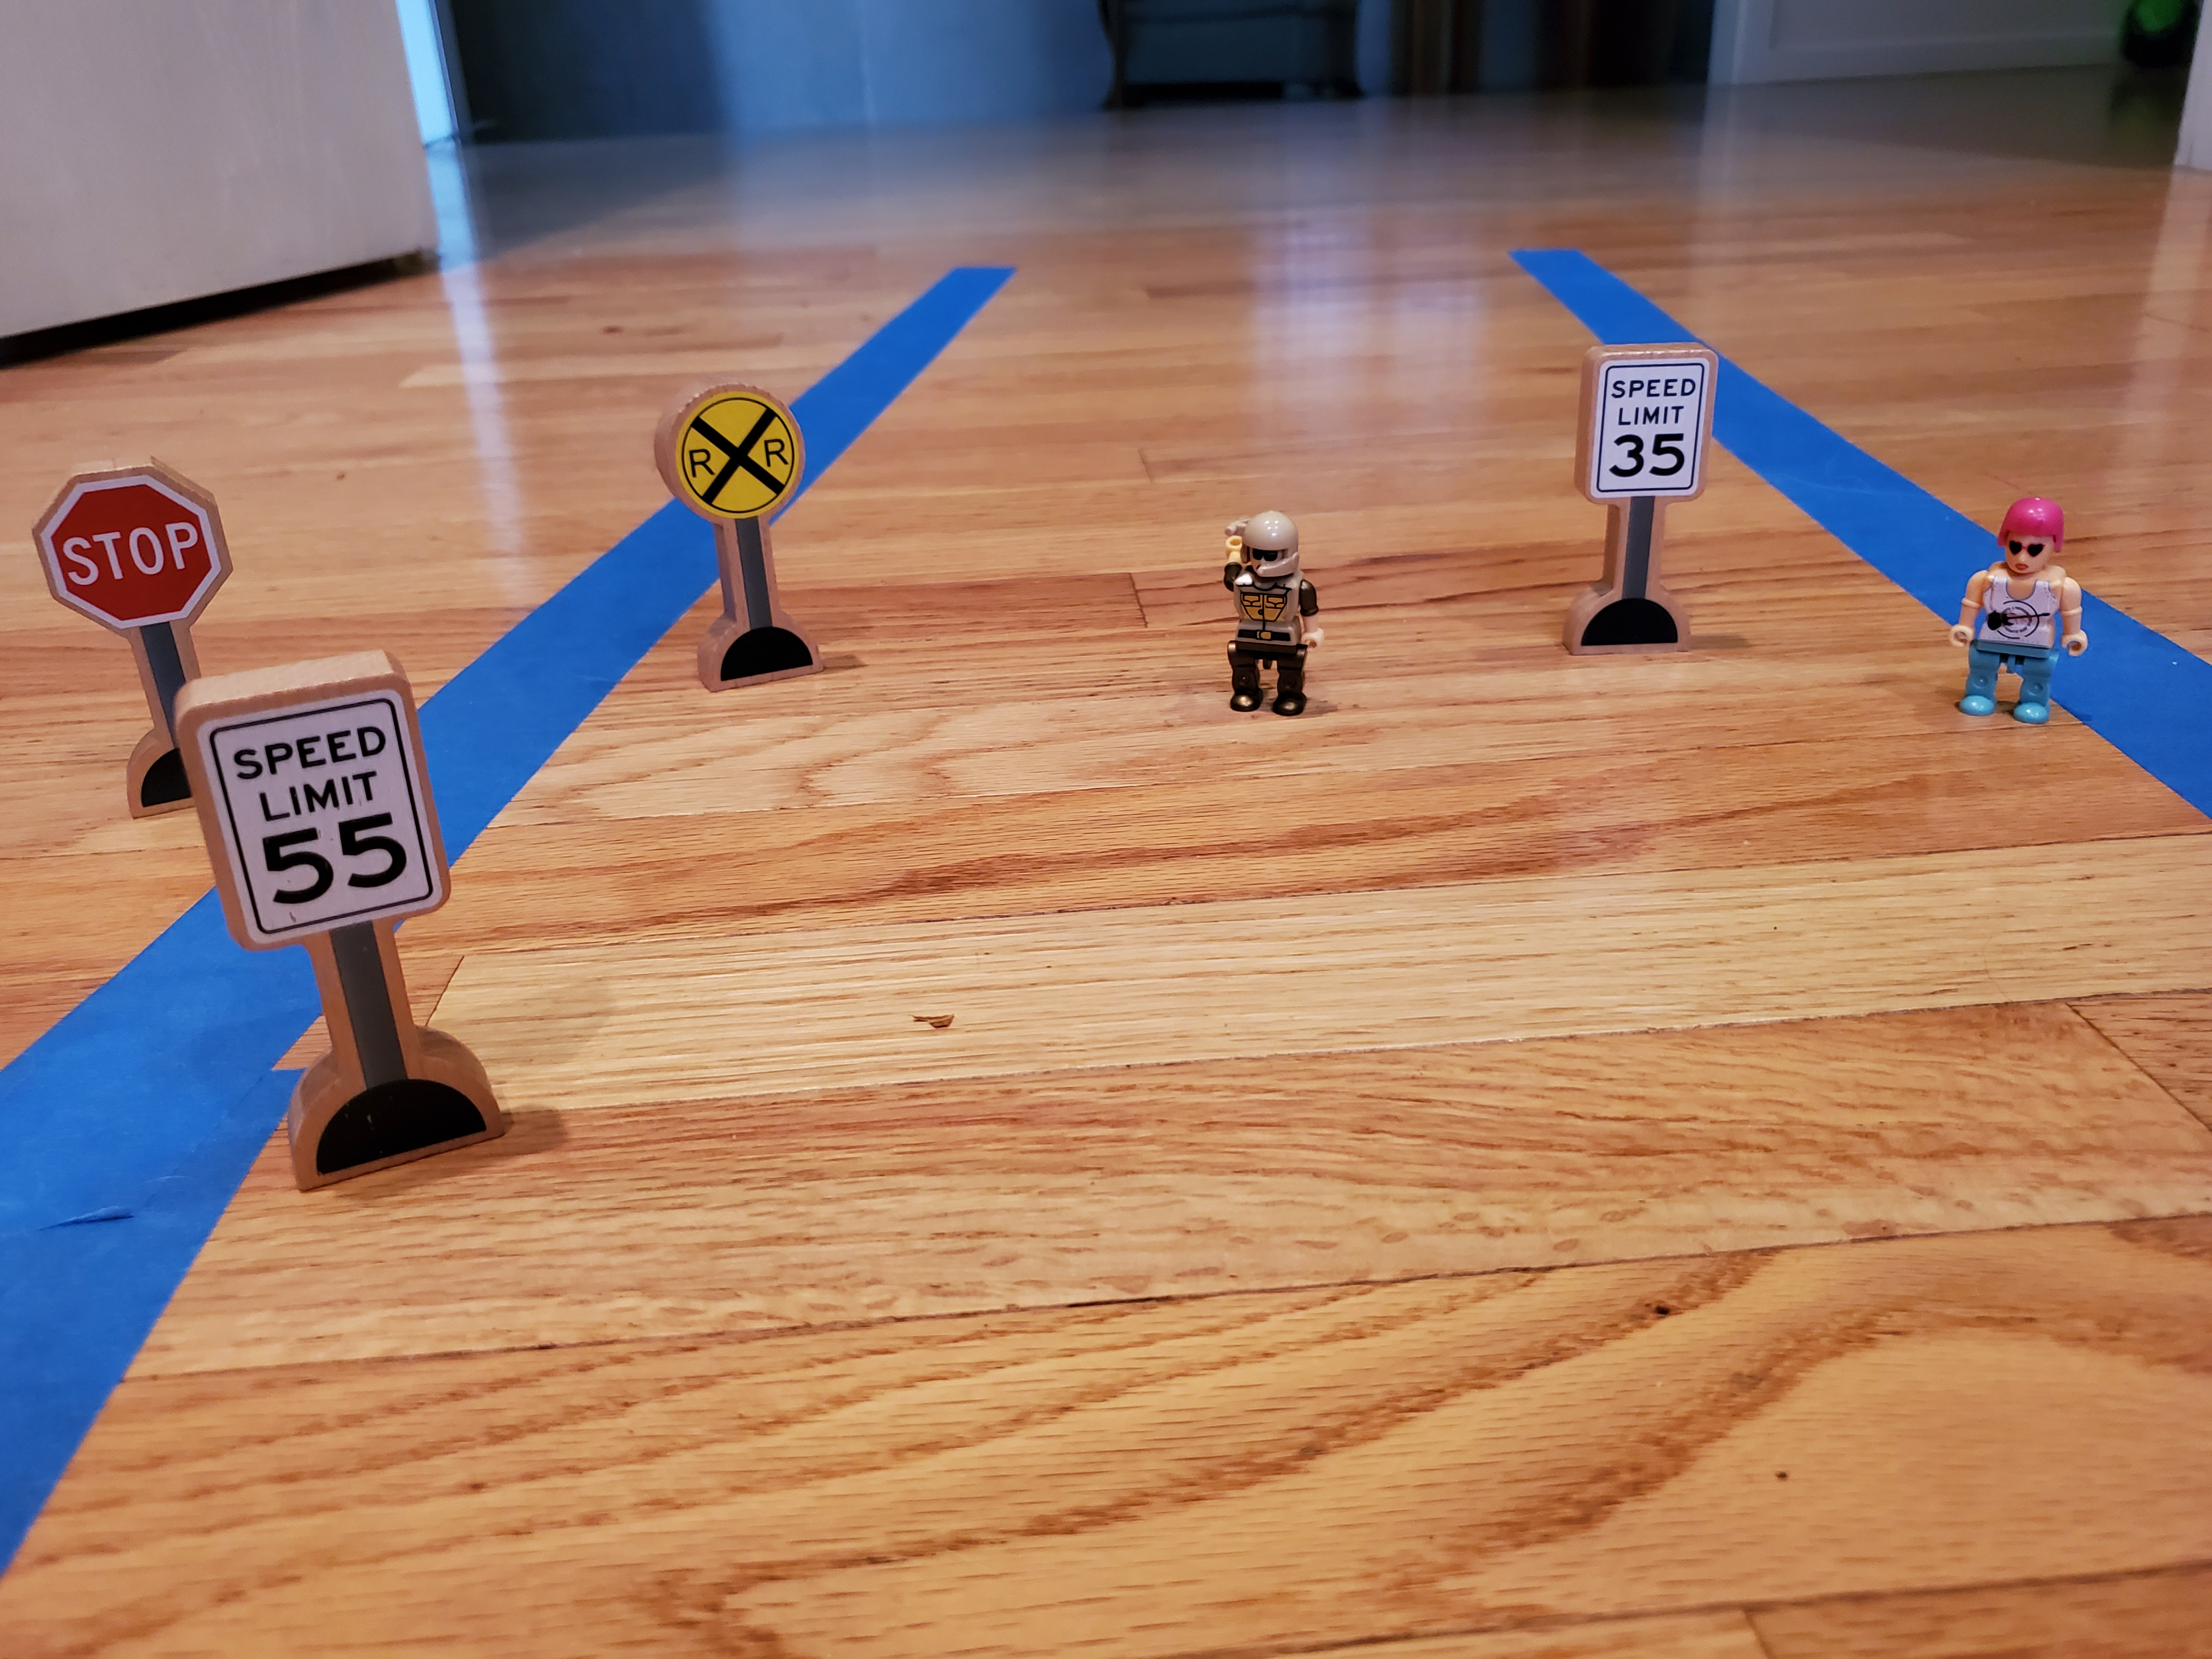Railroad Crossing: (653, 383, 812, 523)
Speed Limit 35: (1571, 337, 1725, 515)
Speed Limit 55: (173, 680, 455, 942)
Stop Sign: (27, 452, 233, 633)
person: (1213, 493, 1339, 736), (1963, 489, 2085, 732)
